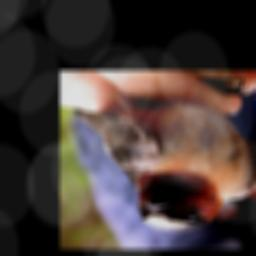Swallow: (74, 77, 256, 232)
